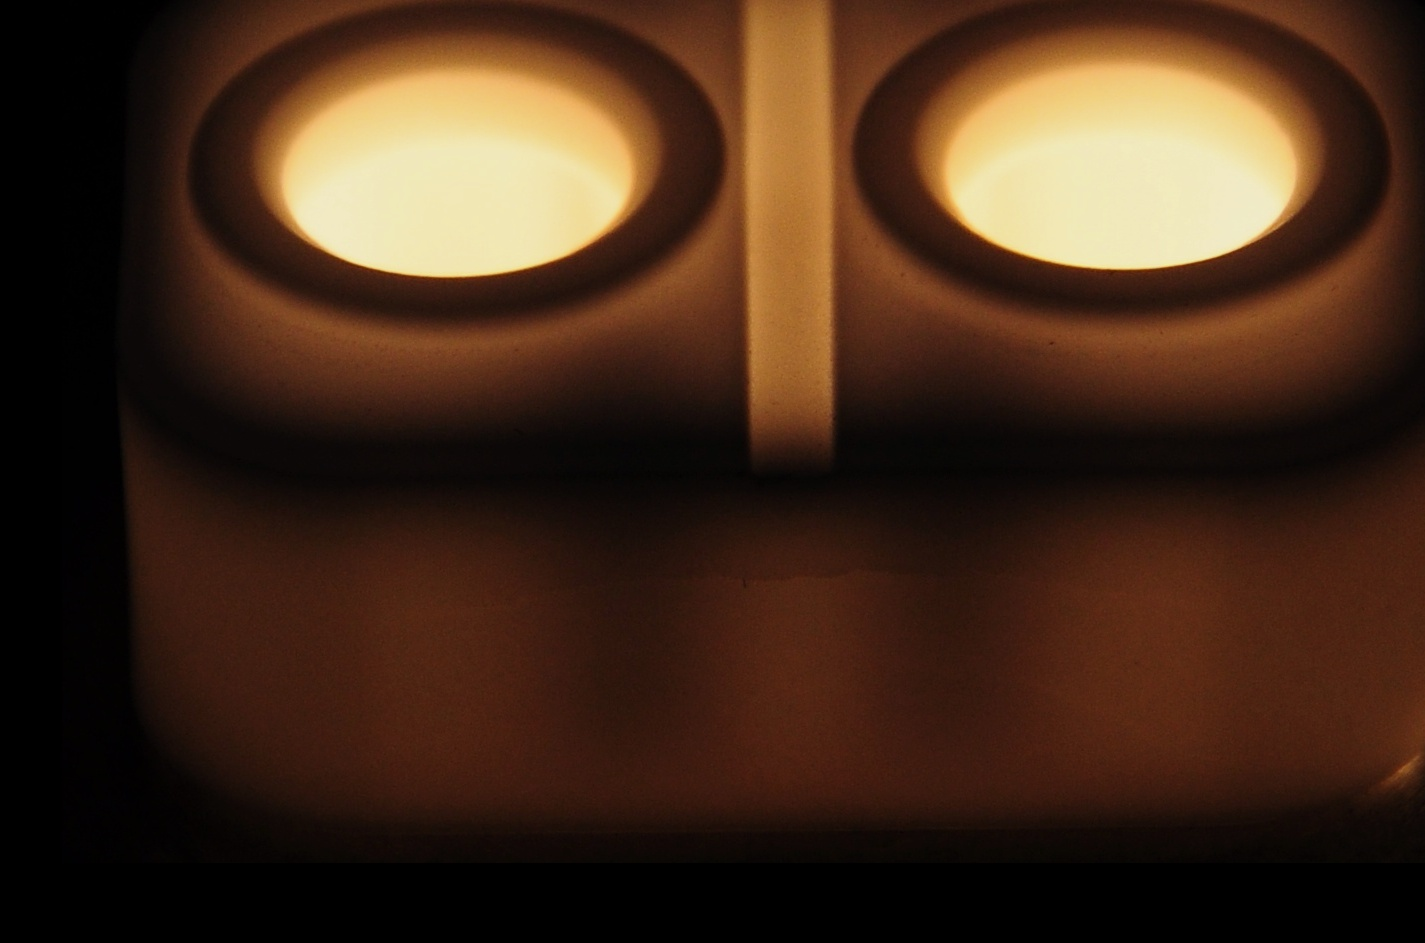flaw: (400, 521, 1265, 630)
